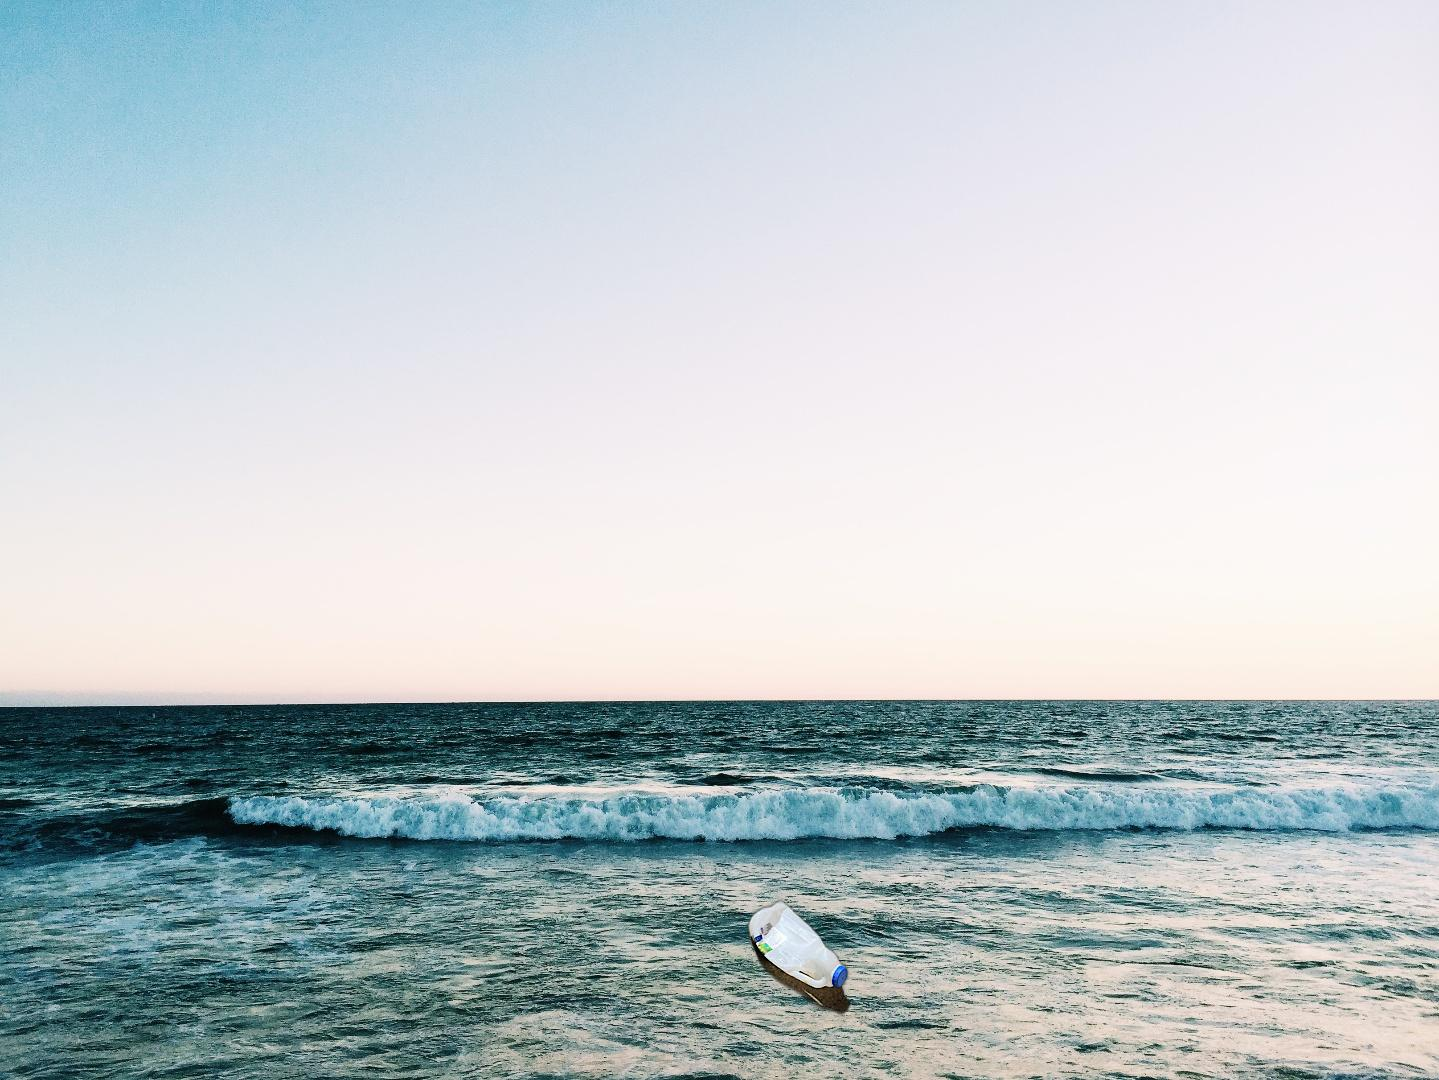plastic-bottles: (743, 894, 854, 1020)
